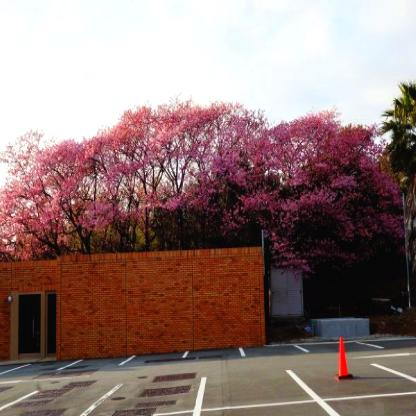KawazuSakura: (0, 96, 410, 268)
